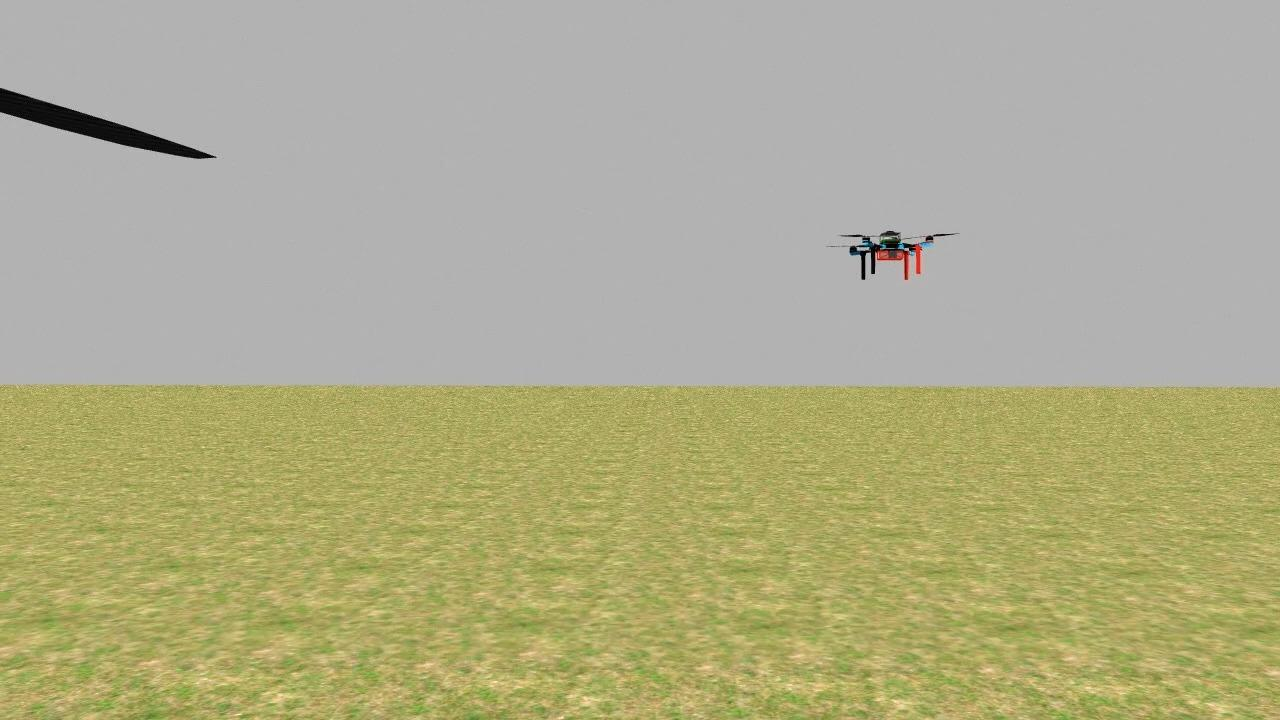UAV: (838, 218, 944, 286)
